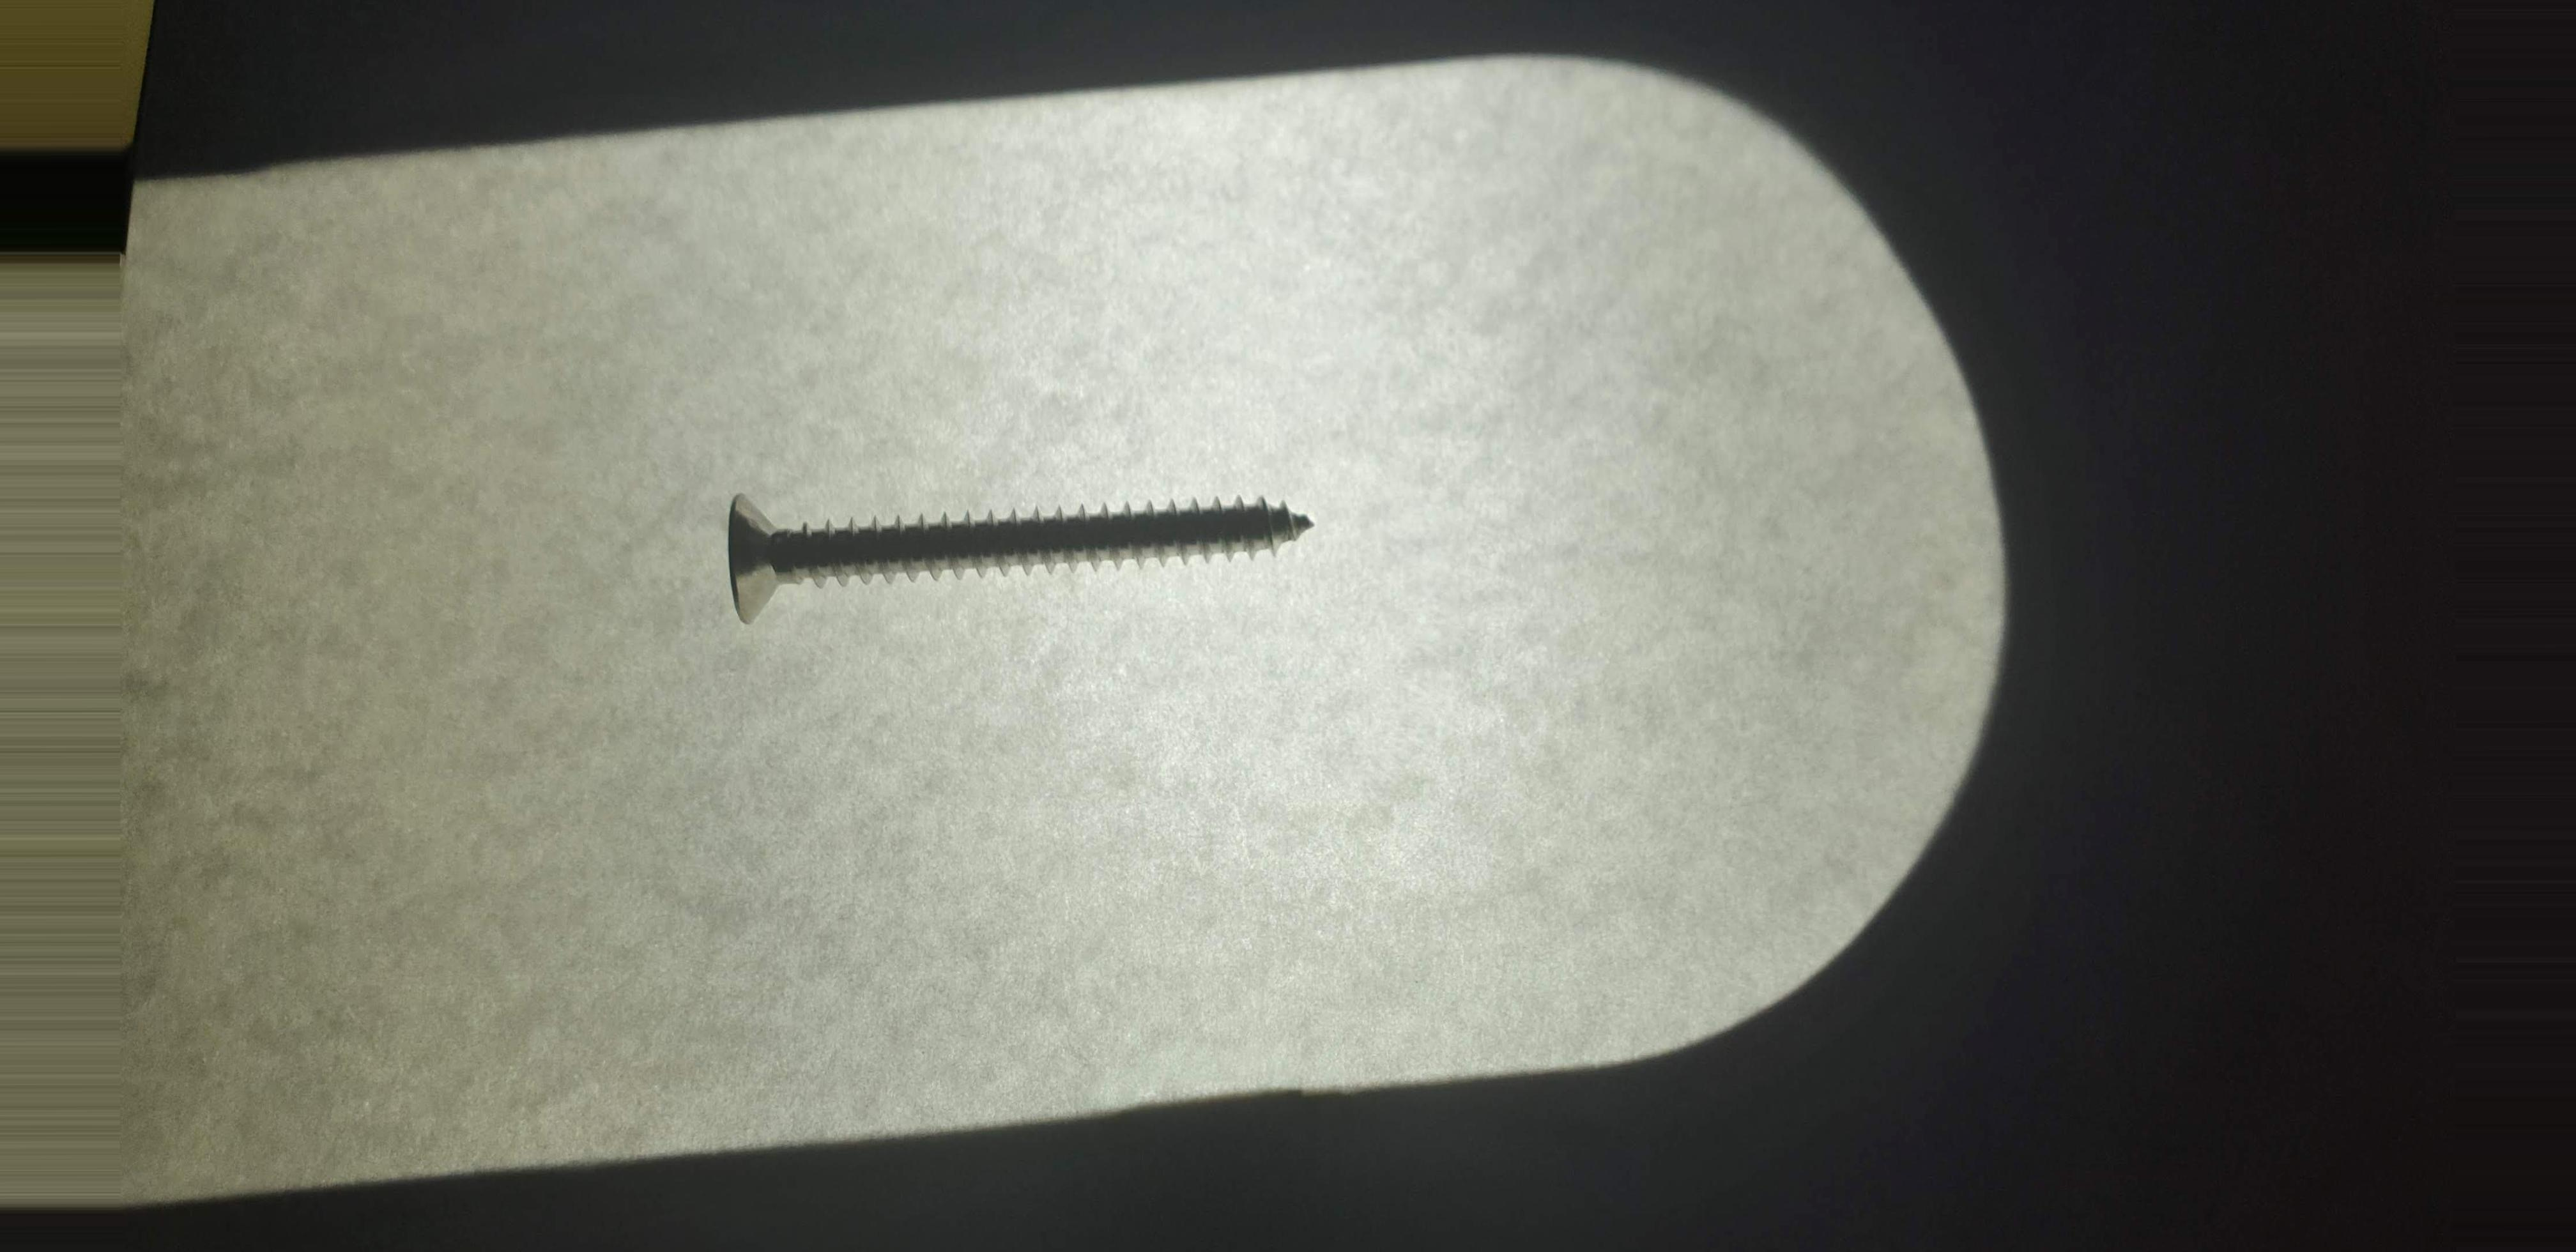S001: (674, 437, 1357, 654)
